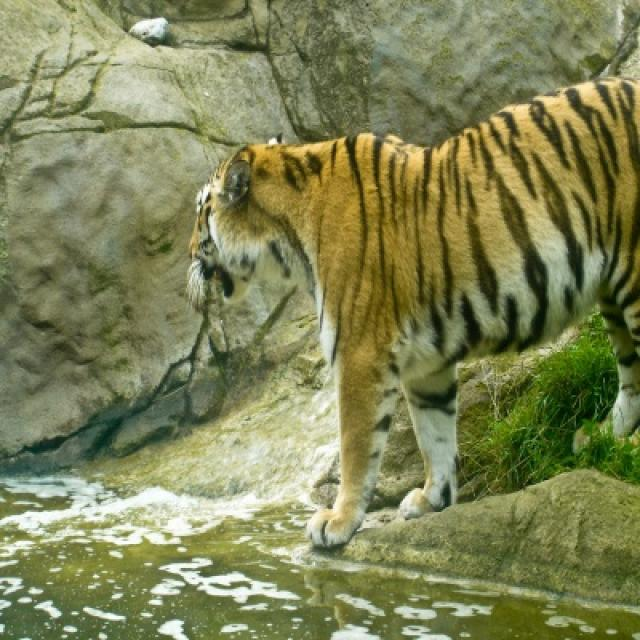Tiger: (189, 77, 635, 549)
